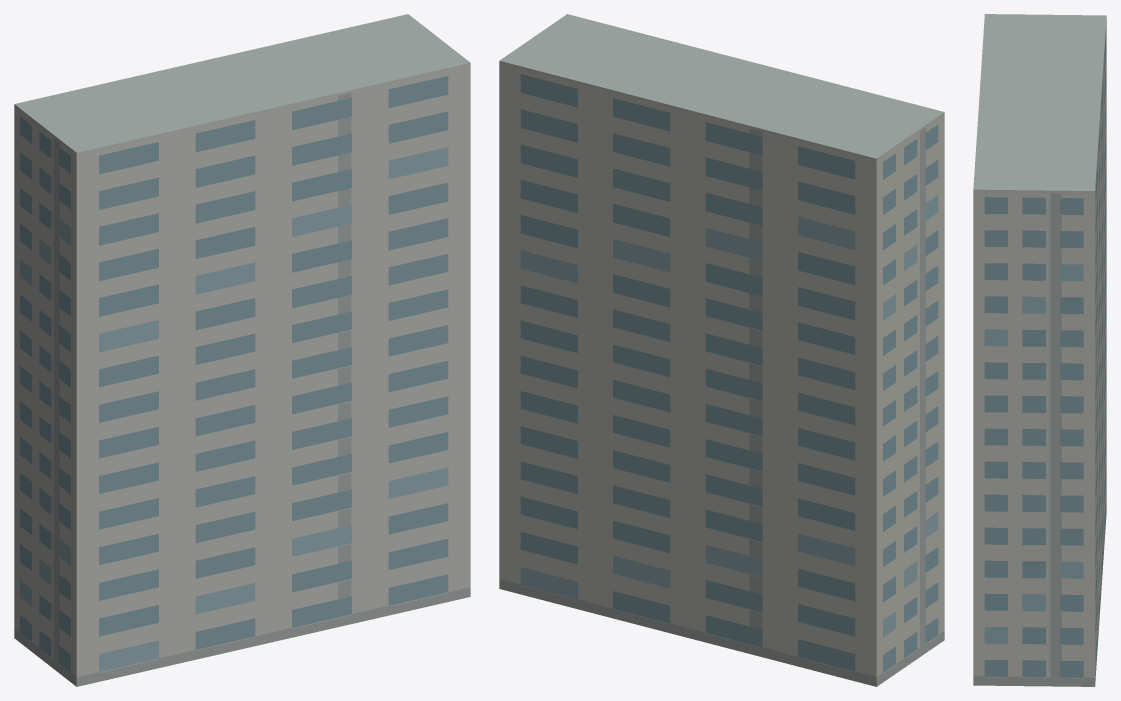
Rendered from residential-aa827488-6c4c-45de-806f-03db9c83e21d.glb.
3 renders of one model, left to right at view 1: azimuth 30°, elevation 25°; view 2: azimuth 150°, elevation 25°; view 3: azimuth 270°, elevation 25°, orthographic. The views are drawn at different scales.
Visible parts, largest first — view 1: residential-aa827488-6c4c-45de-806f-03db9c83e21d.tmp; view 2: residential-aa827488-6c4c-45de-806f-03db9c83e21d.tmp; view 3: residential-aa827488-6c4c-45de-806f-03db9c83e21d.tmp.
Part boxes in pixels (x1,y1,x2,y2): residential-aa827488-6c4c-45de-806f-03db9c83e21d.tmp: [14, 14, 470, 686]; residential-aa827488-6c4c-45de-806f-03db9c83e21d.tmp: [499, 14, 944, 686]; residential-aa827488-6c4c-45de-806f-03db9c83e21d.tmp: [973, 14, 1106, 686].
Bounding box in the file's own units: 35.05 × 45.75 × 11.16.
